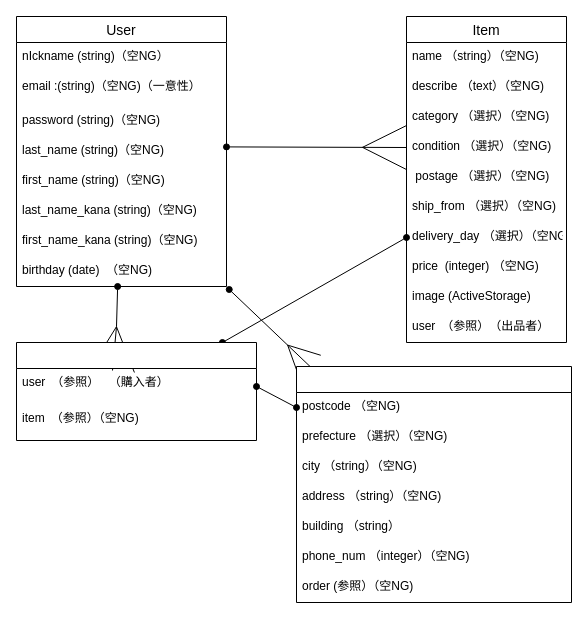
Image size: 588x619. Some labels were removed from this diagram. The shapes that lost their labels are listed below. From the top down, each one's box as (x1, y1, x2, y2) in pixels, then its label:
(16, 342, 256, 440): Order
(296, 366, 572, 602): Destination
